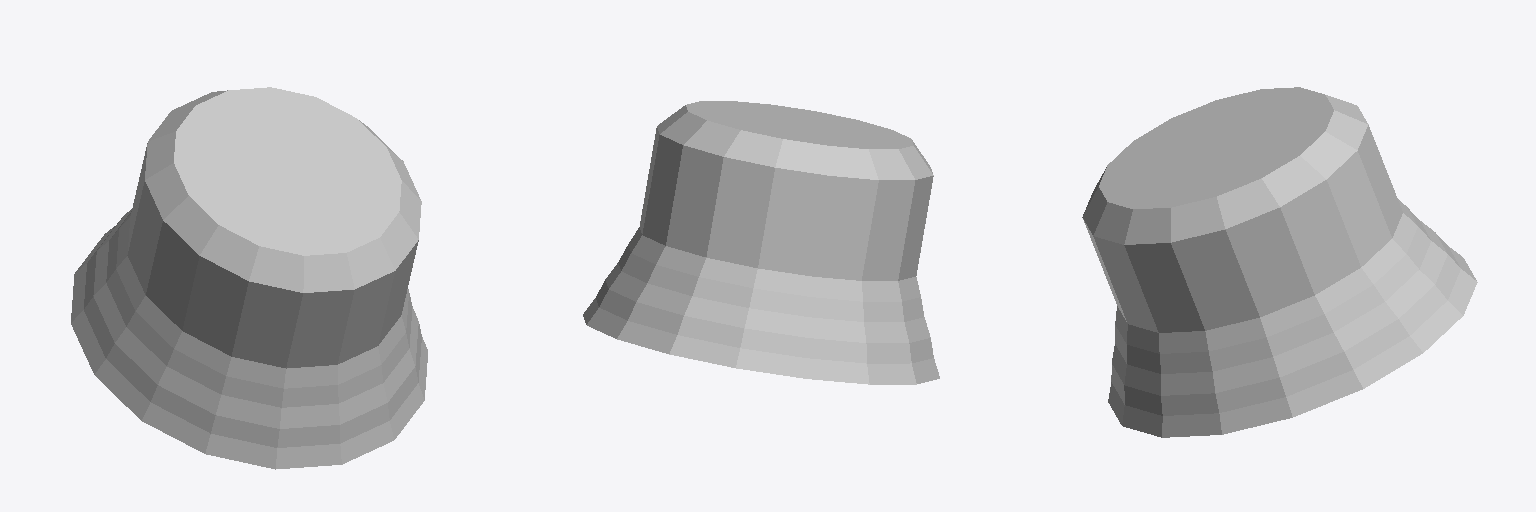
The model's file is sunhat_basic.sgm.obj.
The picture shows the model from 3 angles: view 1: azimuth 30°, elevation 25°; view 2: azimuth 150°, elevation 25°; view 3: azimuth 270°, elevation 25°; orthographic projection.
Bounding box in the file's own units: 0.4889 × 0.4386 × 0.539.